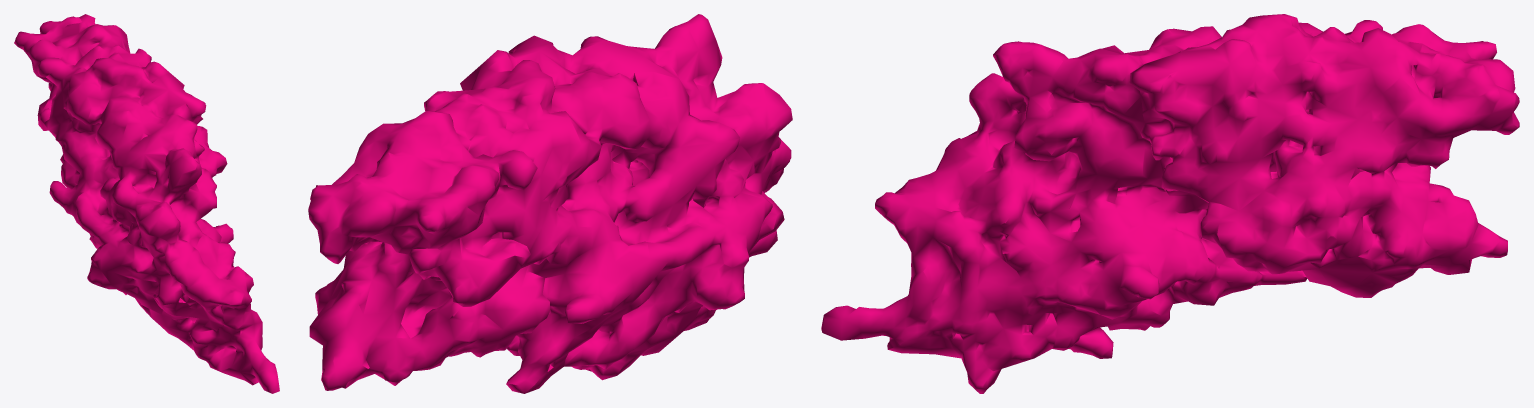
File: 1kac.fbx
The picture shows the model from 3 angles, left to right: view 1: azimuth 30°, elevation 25°; view 2: azimuth 150°, elevation 25°; view 3: azimuth 270°, elevation 25°; orthographic projection. The views are drawn at different scales.
Visible parts, largest first — view 1: Volume_Mesher; view 2: Volume_Mesher; view 3: Volume_Mesher.
Part boxes in pixels (left/top/right/bottom): Volume_Mesher: left=14, top=14, right=279, bottom=393; Volume_Mesher: left=308, top=14, right=792, bottom=393; Volume_Mesher: left=821, top=14, right=1519, bottom=393.
Size of the model in its own units: 24.81 by 33.78 by 59.89.
